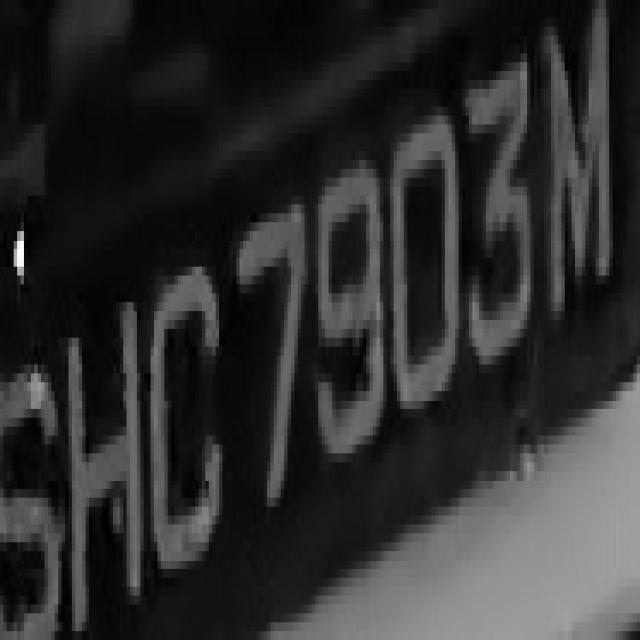0: (383, 89, 469, 444)
3: (455, 18, 534, 400)
7: (230, 178, 312, 516)
9: (305, 133, 390, 471)
C: (134, 258, 222, 596)
H: (58, 284, 151, 640)
M: (541, 27, 626, 364)
